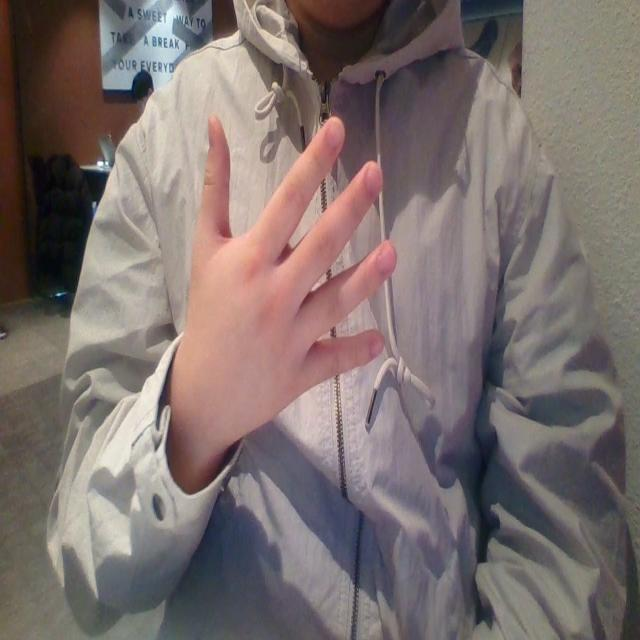hand: (178, 106, 394, 513)
